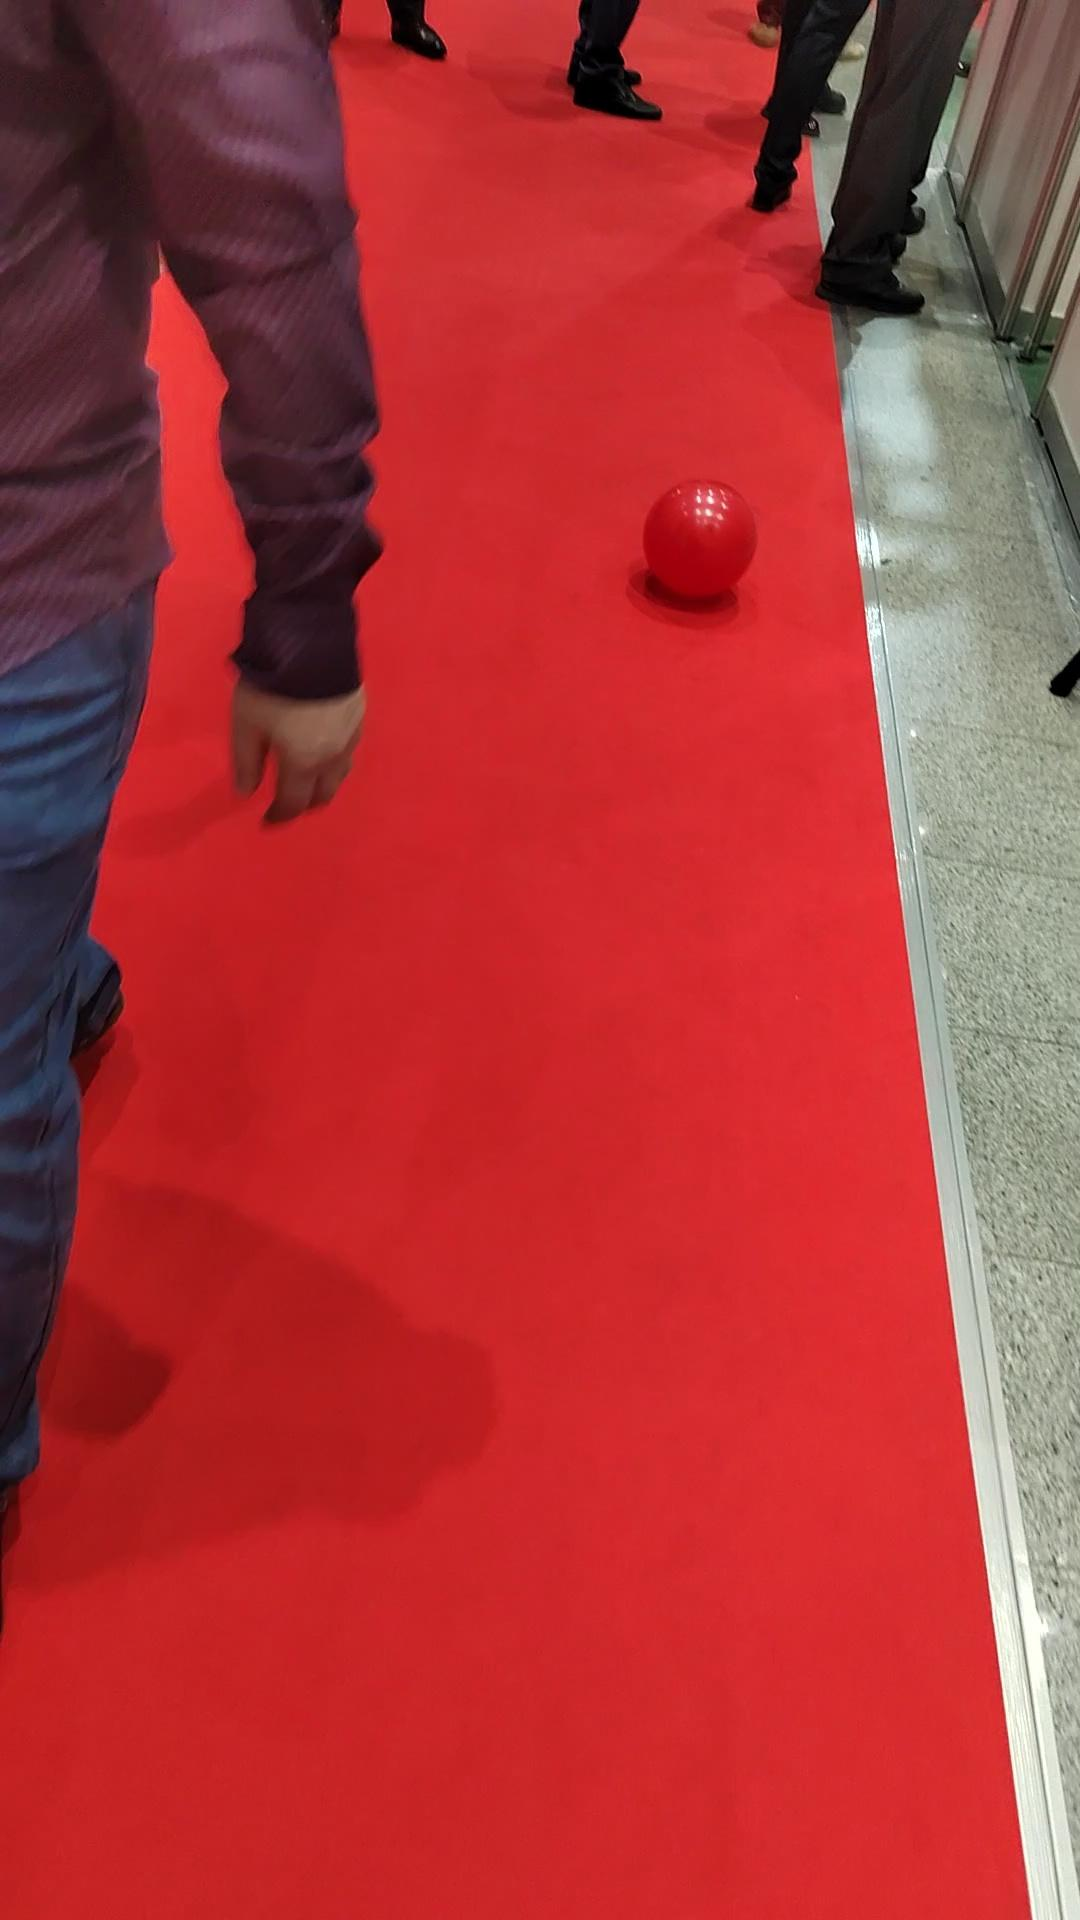red: (642, 479, 758, 600)
